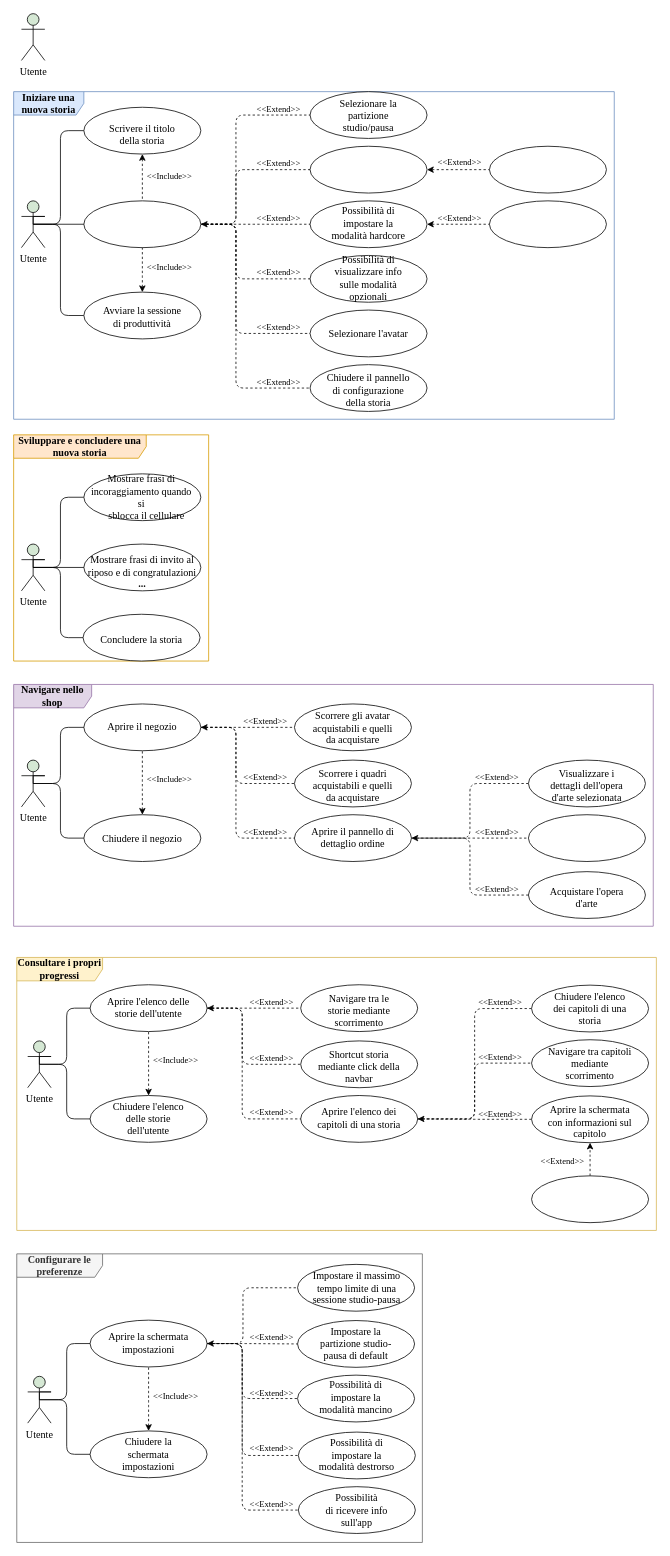
This 670x1556 diagram has some shape labels left out. The centre of each missing label's shape, as x and y in pixels:
"Aprire il pannello di configurazione della storia" belongs at (142,224).
"Chiudere il pannello di dettaglio ordine" belongs at (586,838).
"Chiudere la schermata con informazioni sul capitolo" belongs at (590,1199).
"Disattivare la modalità hardcore" belongs at (547,224).
"Disattivare la modalità silenziosa" belongs at (547,169).
"Possibilità di impostare la modalità silenziosa" belongs at (368,169).
